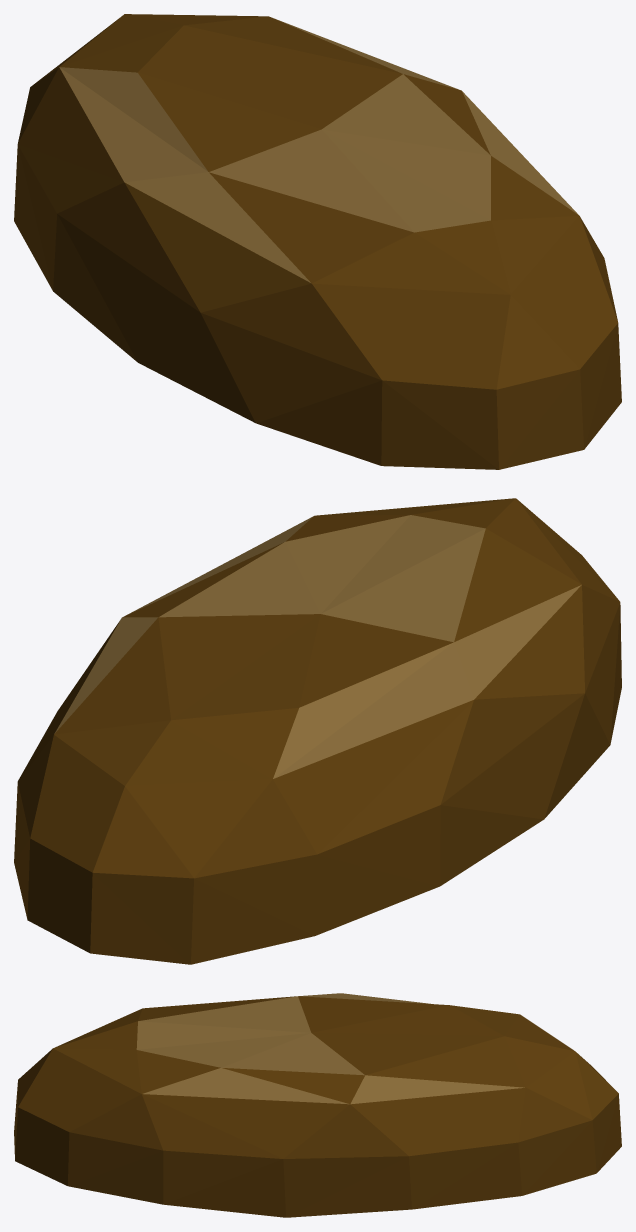
The model's file is bread.fbx.
3 views of the same model, one above another, from view 1: azimuth 30°, elevation 25°; view 2: azimuth 150°, elevation 25°; view 3: azimuth 270°, elevation 25° (orthographic). The views are drawn at different scales.
Visible parts, largest first — view 1: Sphere; view 2: Sphere; view 3: Sphere.
Boxes of the visible parts, left/top/right/bottom form: Sphere: left=14, top=14, right=621, bottom=469; Sphere: left=14, top=498, right=621, bottom=964; Sphere: left=14, top=993, right=621, bottom=1217.
Size of the model in its own units: 50.98 by 21.57 by 98.86.
